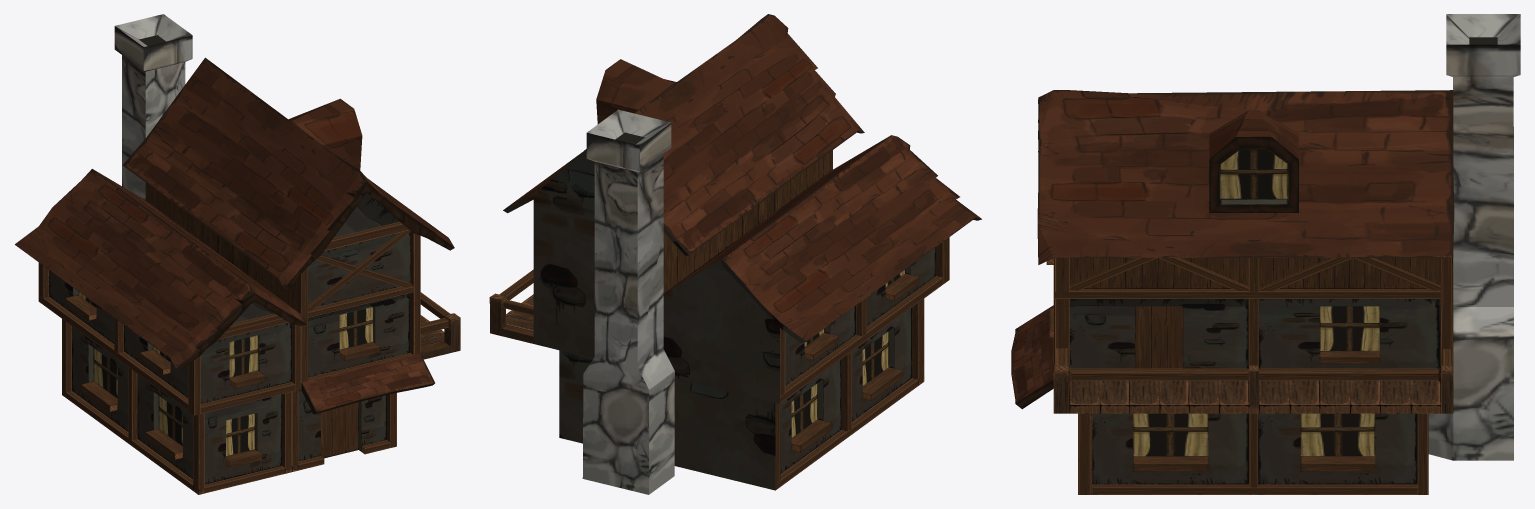
Rendered from tavern_extNew.fbx.
The picture shows the model from 3 angles, left to right: view 1: azimuth 30°, elevation 25°; view 2: azimuth 150°, elevation 25°; view 3: azimuth 270°, elevation 25°; orthographic projection. The views are drawn at different scales.
Visible parts, largest first — view 1: Cube.001; view 2: Cube.001; view 3: Cube.001.
Part boxes in pixels (x1,y1,x2,y2): Cube.001: (15,14,460,494); Cube.001: (489,14,981,494); Cube.001: (1011,14,1520,494).
Bounding box in the file's own units: 1361 × 1435 × 1608.
